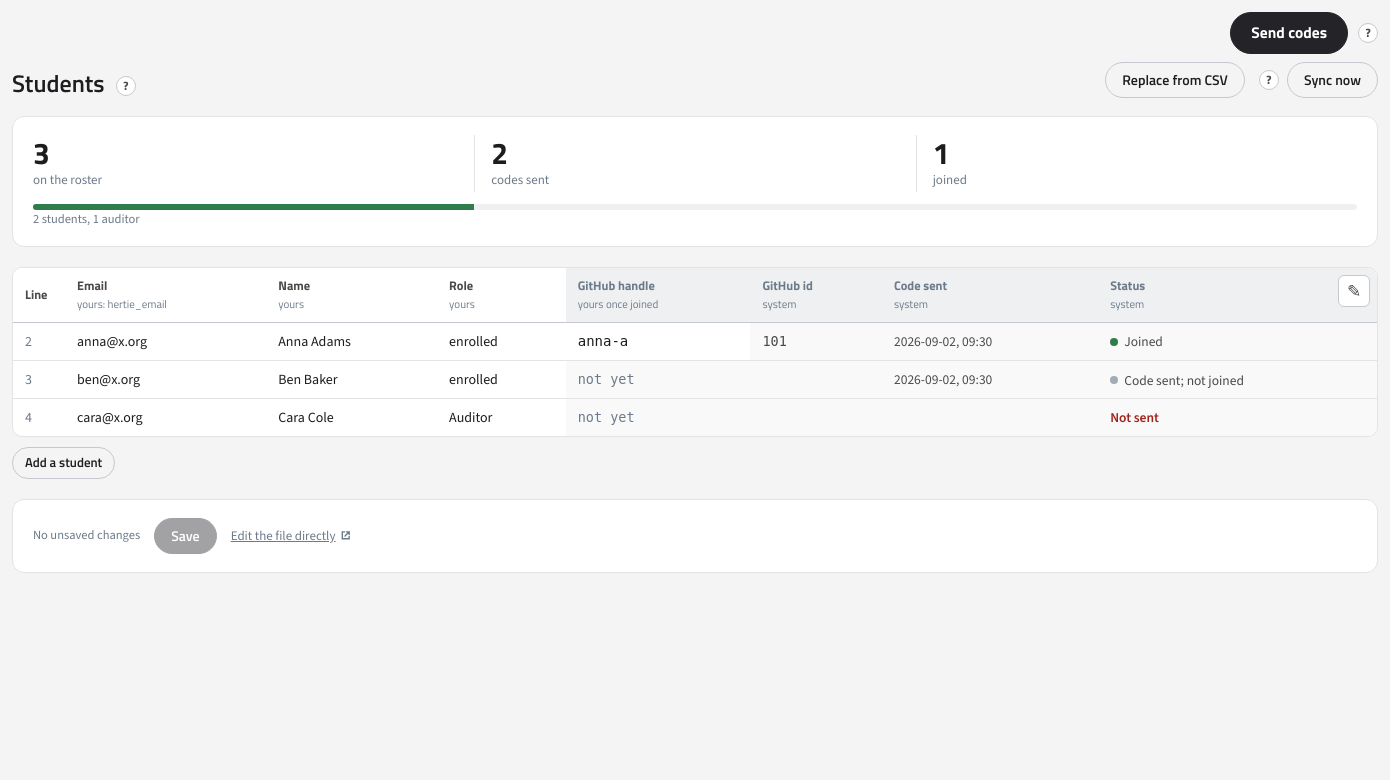
Test case: Edit roster: add and remove › marks a removed row struck through, with Undo, and deletes nothing until Save
This screenshot has width=1390, height=780.
Click the button named "Edit roster": (1354, 291) left=1338, top=275, right=1370, bottom=307
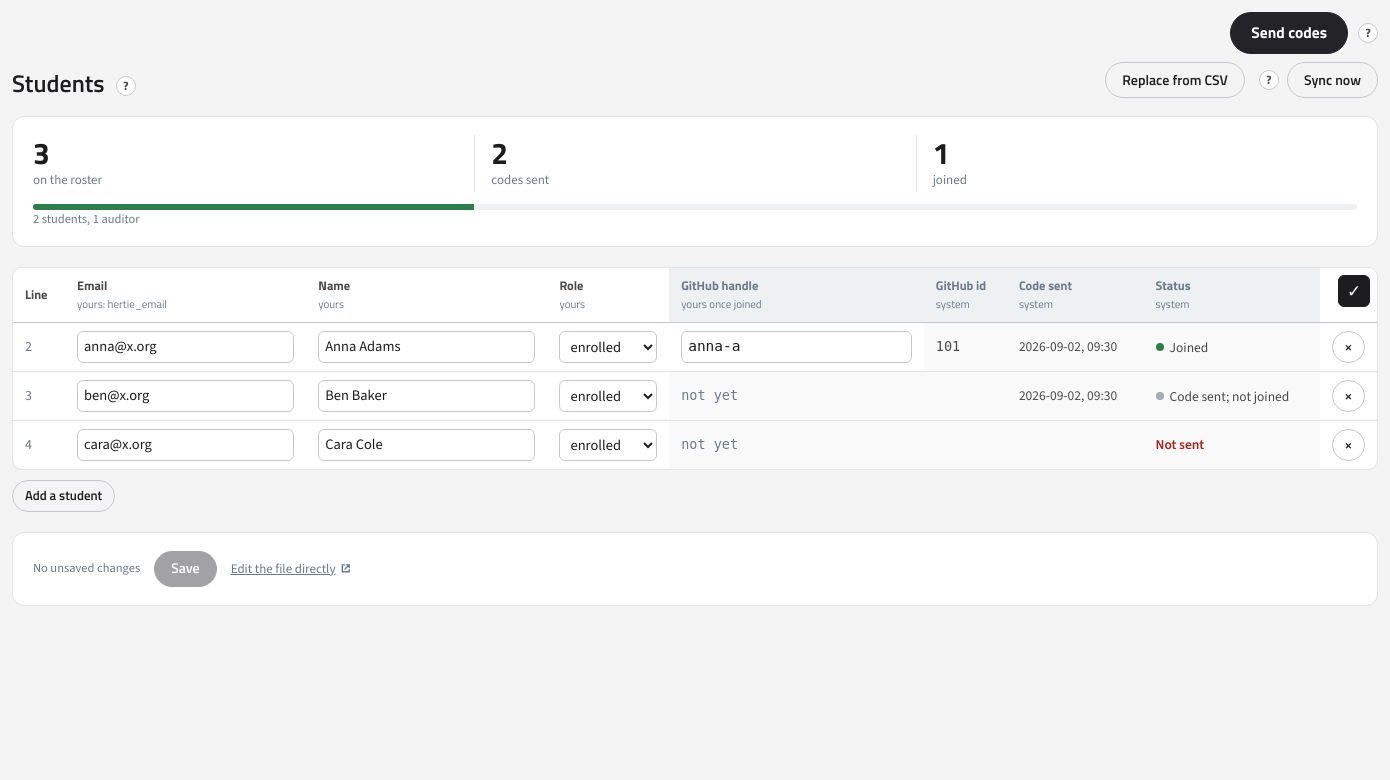
Click the button named "Remove line 3": (1348, 396) left=1332, top=380, right=1365, bottom=412
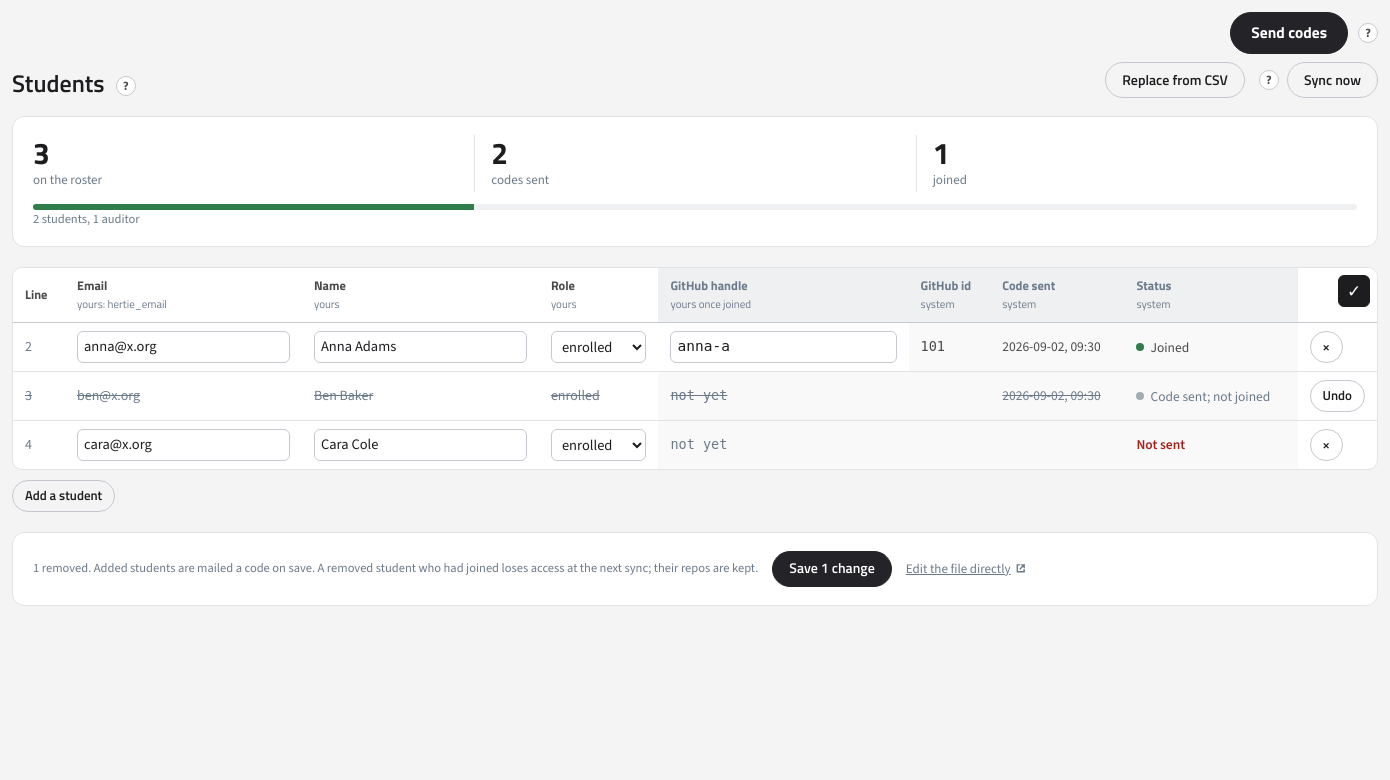
Check: the row with id "line-3" has class "removed", box left=13, top=372, right=1377, bottom=420
Click the button named "Remove line 3": (1337, 396) left=1310, top=380, right=1365, bottom=412
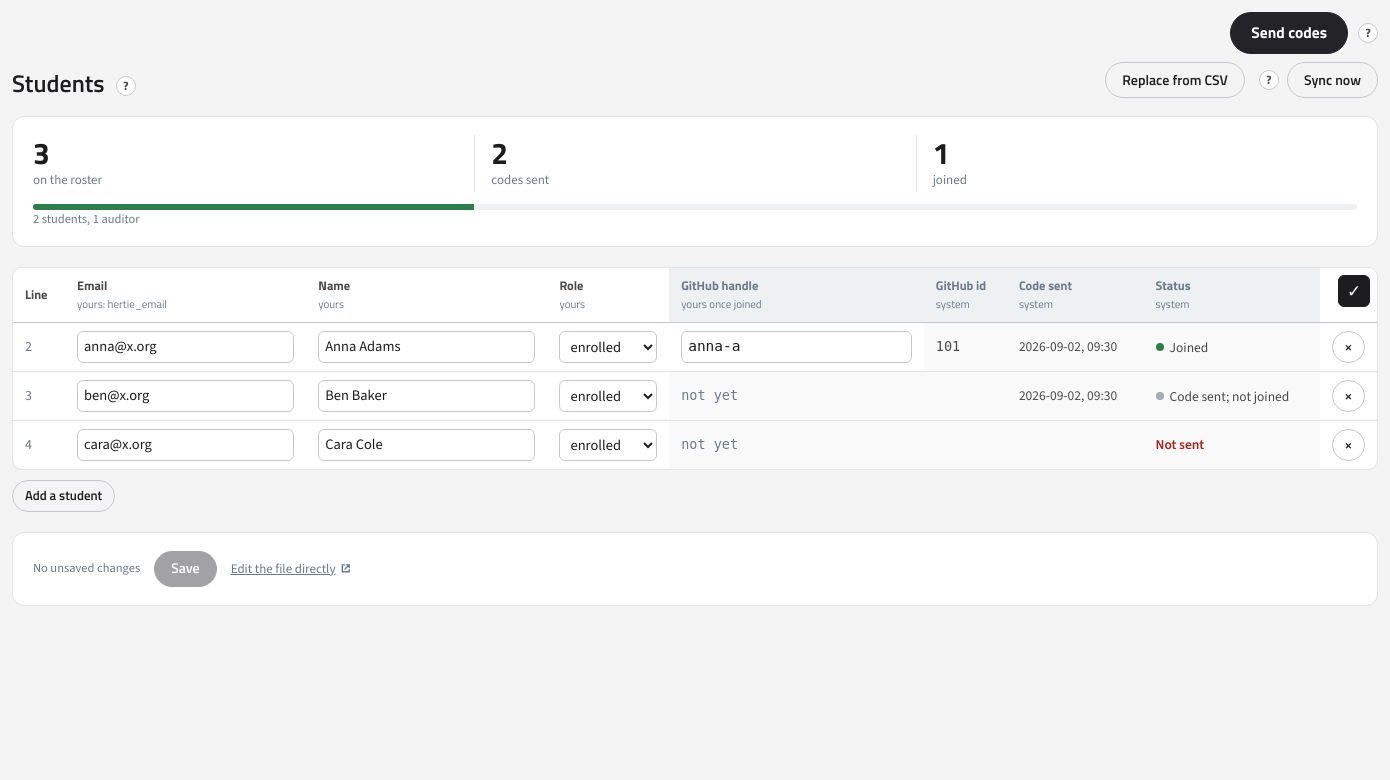
Check: the element with class "savebar" shows "No unsaved changes", box left=33, top=559, right=140, bottom=576
